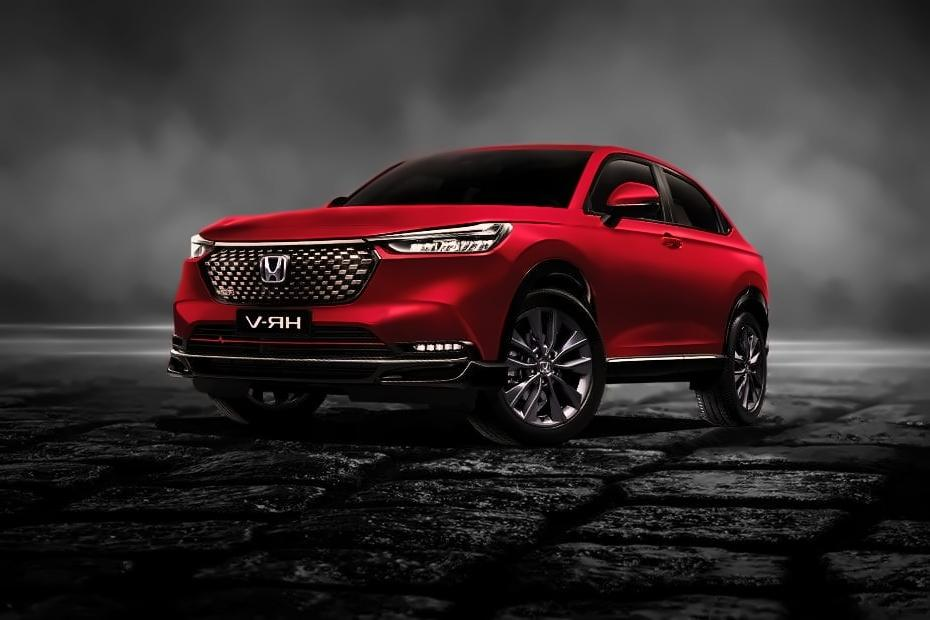Car hood: (194, 202, 567, 245)
Fender - -F-L-: (499, 192, 596, 320)
Fender - -R-L-: (710, 223, 776, 337)
Front bumper: (163, 279, 519, 401)
Headlight - -L-: (381, 220, 515, 259)
Headlight - -R-: (187, 231, 214, 261)
Passenger-s door - -F-L-: (578, 146, 687, 393)
Passenger-s door - -R-L-: (652, 151, 743, 393)
Side bumper - -L-: (596, 336, 740, 384)
Side mirror - -L-: (594, 181, 662, 231)
